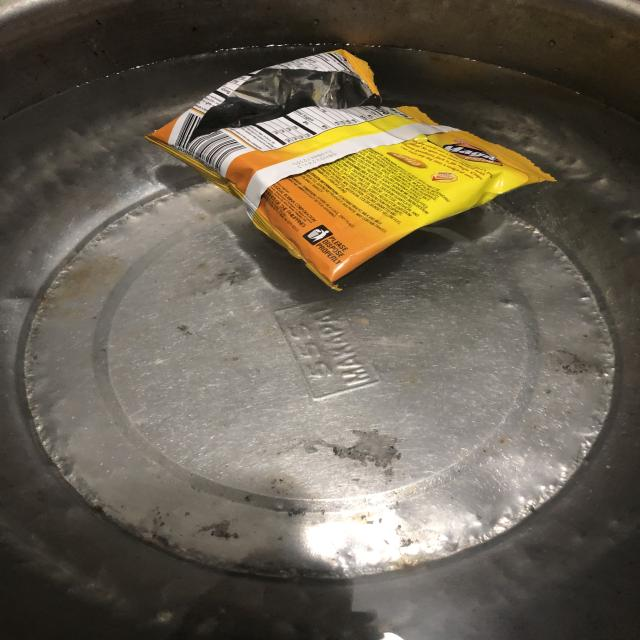Plastic Wrapper: (129, 38, 572, 306)
